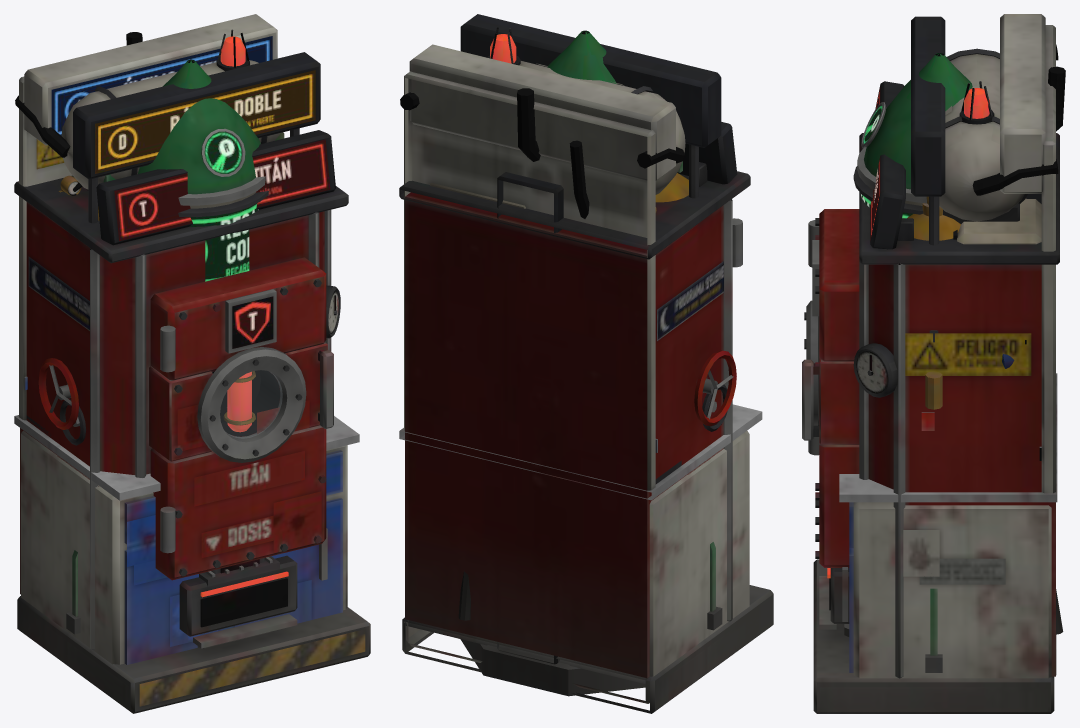
Rendered from bebidas.glb.
The picture shows the model from 3 angles, left to right: view 1: azimuth 30°, elevation 25°; view 2: azimuth 150°, elevation 25°; view 3: azimuth 270°, elevation 25°; orthographic projection. The views are drawn at different scales.
Parts seen in each view (by area): view 1: beb_T_cuerpo_m, beb_A_cuerpo_m, beb_D_cuerpo_m, beb_R_cuerpo_m, beb_T_vidrio_m; view 2: beb_T_cuerpo_m, beb_A_cuerpo_m, beb_D_cuerpo_m, beb_R_cuerpo_m; view 3: beb_T_cuerpo_m, beb_A_cuerpo_m, beb_D_cuerpo_m, beb_R_cuerpo_m.
Boxes of the visible parts, x1,y1,x2,y2 form: beb_T_cuerpo_m: (14,29,370,713); beb_A_cuerpo_m: (14,14,359,664); beb_D_cuerpo_m: (18,32,320,711); beb_R_cuerpo_m: (66,59,284,648); beb_T_vidrio_m: (220,370,281,437); beb_T_cuerpo_m: (399,27,773,713); beb_A_cuerpo_m: (399,44,762,703); beb_D_cuerpo_m: (404,14,772,711); beb_R_cuerpo_m: (458,30,722,696); beb_T_cuerpo_m: (802,44,1059,713); beb_A_cuerpo_m: (839,14,1057,678); beb_D_cuerpo_m: (820,16,1065,713); beb_R_cuerpo_m: (844,53,1063,674).
Size of the model in its own units: 1.1 by 2.31 by 0.92.
Materials: 3 (2 with a texture image).
